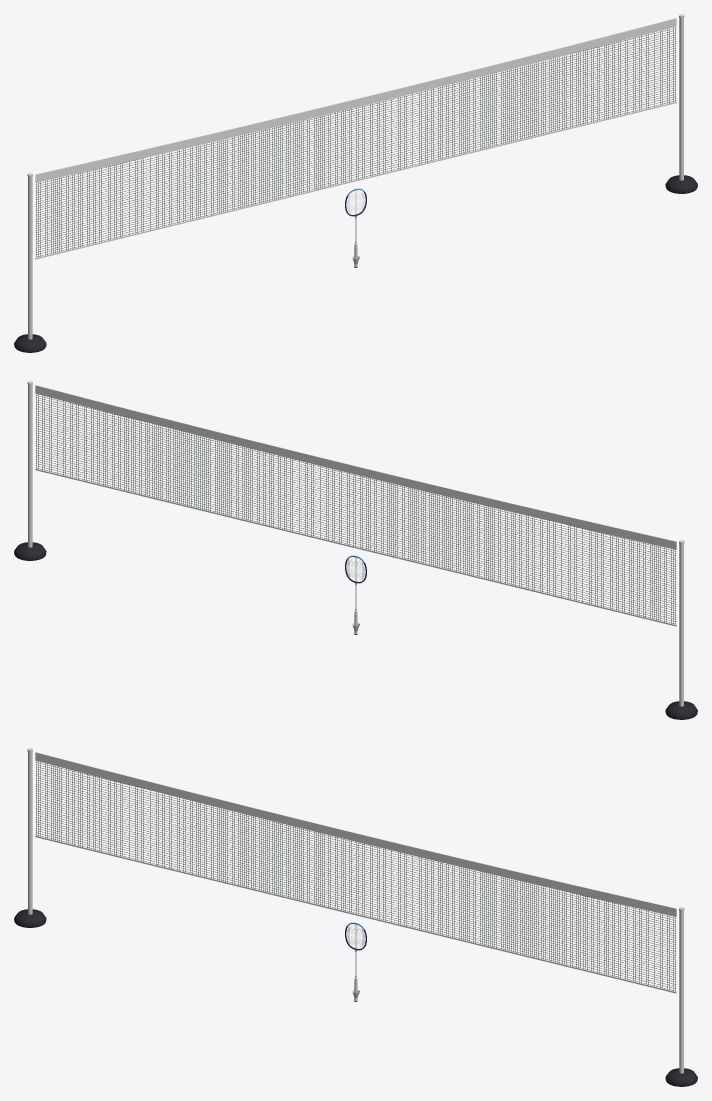
Rendered from badminton_props.glb.
The picture shows the model from 3 angles, top to bottom: view 1: azimuth 30°, elevation 25°; view 2: azimuth 150°, elevation 25°; view 3: azimuth 330°, elevation 25°; orthographic projection.
Visible parts, largest first — view 1: net_mesh, net_tape, net_post, net_post_base; view 2: net_mesh, net_tape, net_post, net_post_base; view 3: net_mesh, net_tape, net_post, net_post_base.
Boxes of the visible parts, x1=… form: net_mesh: x1=36, y1=27, x2=675, y2=257; net_tape: x1=35, y1=18, x2=676, y2=259; net_post: x1=27, y1=14, x2=684, y2=339; net_post_base: x1=14, y1=175, x2=697, y2=352; net_mesh: x1=36, y1=394, x2=675, y2=624; net_tape: x1=35, y1=385, x2=676, y2=626; net_post: x1=27, y1=381, x2=684, y2=706; net_post_base: x1=14, y1=542, x2=697, y2=719; net_mesh: x1=36, y1=761, x2=675, y2=991; net_tape: x1=35, y1=752, x2=676, y2=993; net_post: x1=27, y1=748, x2=684, y2=1073; net_post_base: x1=14, y1=909, x2=697, y2=1086.
Bounding box in the file's own units: 6.47 × 1.57 × 0.27.
15 materials, 3 textured.
